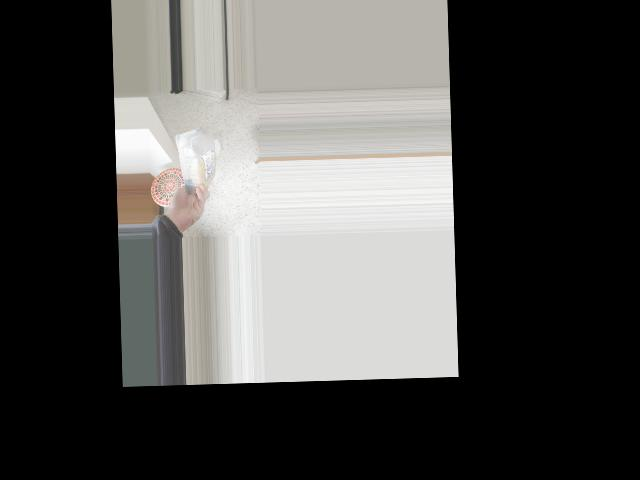cheese: (178, 126, 216, 193)
